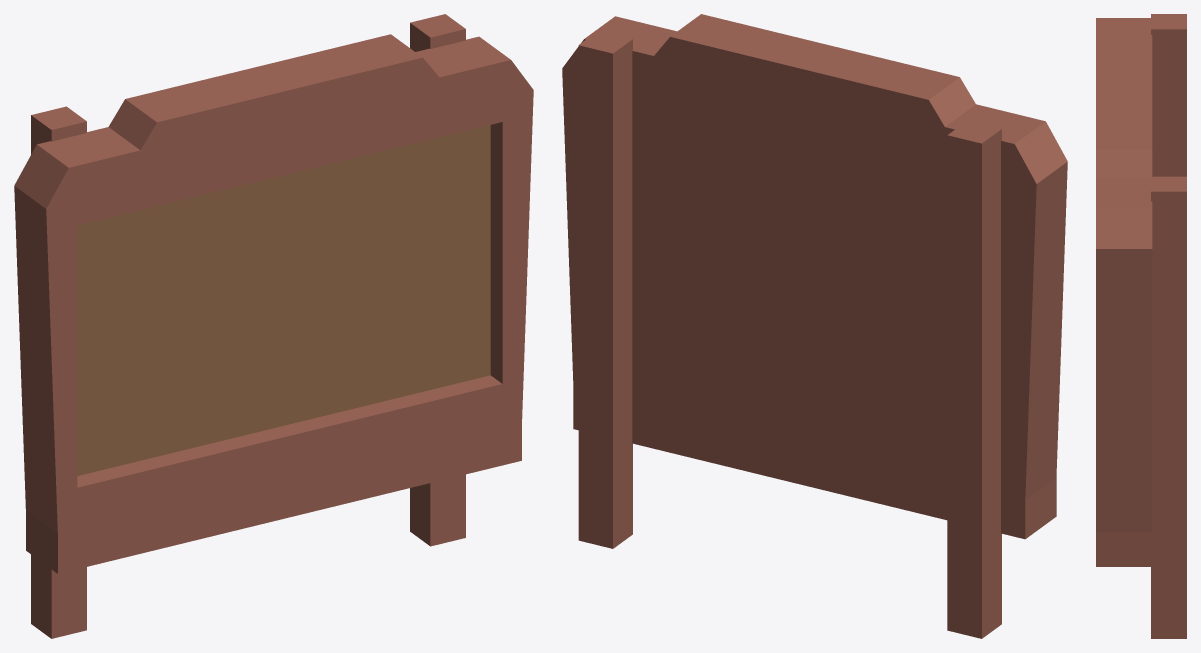
File: Mural.fbx
3 views of the same model, side by side, from view 1: azimuth 30°, elevation 25°; view 2: azimuth 150°, elevation 25°; view 3: azimuth 270°, elevation 25° (orthographic). The views are drawn at different scales.
Visible parts, largest first — view 1: Mural.001; view 2: Mural.001; view 3: Mural.001.
Boxes of the visible parts, <box> form: Mural.001: <box>14,14,533,638</box>; Mural.001: <box>562,14,1067,638</box>; Mural.001: <box>1096,14,1186,638</box>.
Bounding box in the file's own units: 0.3233 × 1.76 × 1.8.
